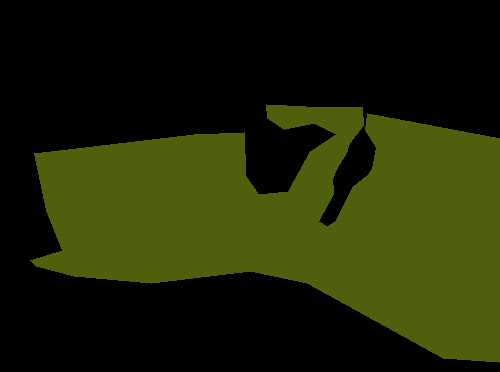Train: (30, 104, 500, 362)
